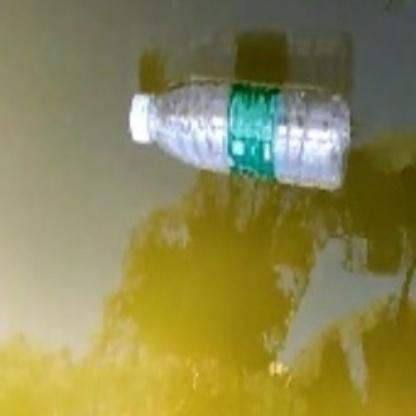plastic bottle: (128, 76, 350, 191)
